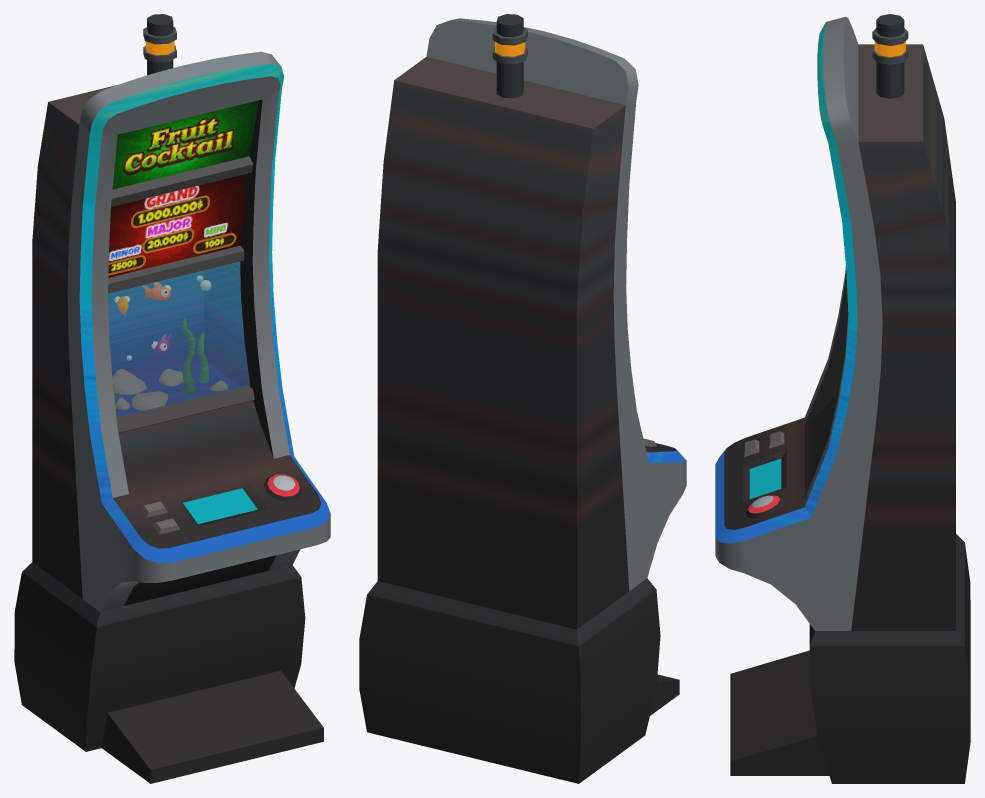
File: slot-machine-aquarium-01.glb
3 views of the same model, side by side, from view 1: azimuth 30°, elevation 25°; view 2: azimuth 150°, elevation 25°; view 3: azimuth 270°, elevation 25° (orthographic). The views are drawn at different scales.
Parts seen in each view (by area): view 1: Slot_Machine_Aquarium_01, Slot_Machine_Aquarium_Fish_01; view 2: Slot_Machine_Aquarium_01; view 3: Slot_Machine_Aquarium_01.
Boxes of the visible parts, box(x1,y1,x2,y2) form: Slot_Machine_Aquarium_01: box(14, 14, 330, 783); Slot_Machine_Aquarium_Fish_01: box(114, 282, 171, 354); Slot_Machine_Aquarium_01: box(359, 14, 686, 783); Slot_Machine_Aquarium_01: box(715, 14, 970, 783).
Size of the model in its own units: 0.8624 by 2.64 by 0.8581.
4 materials, 4 textured.
